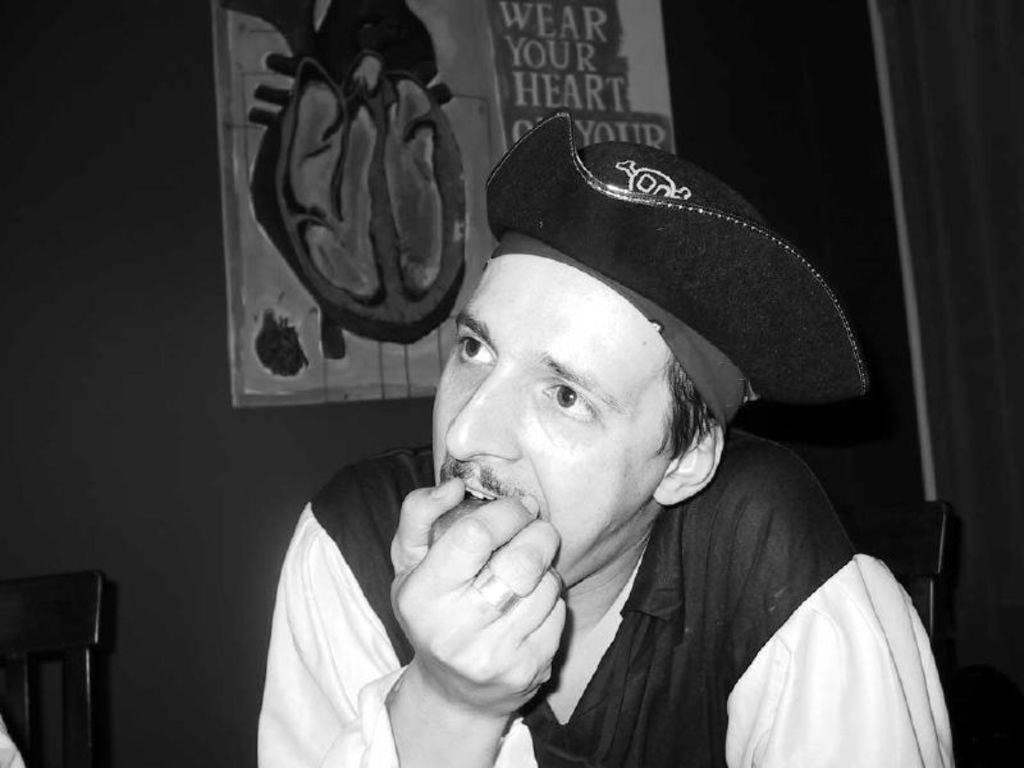Hat: (488, 112, 872, 406)
